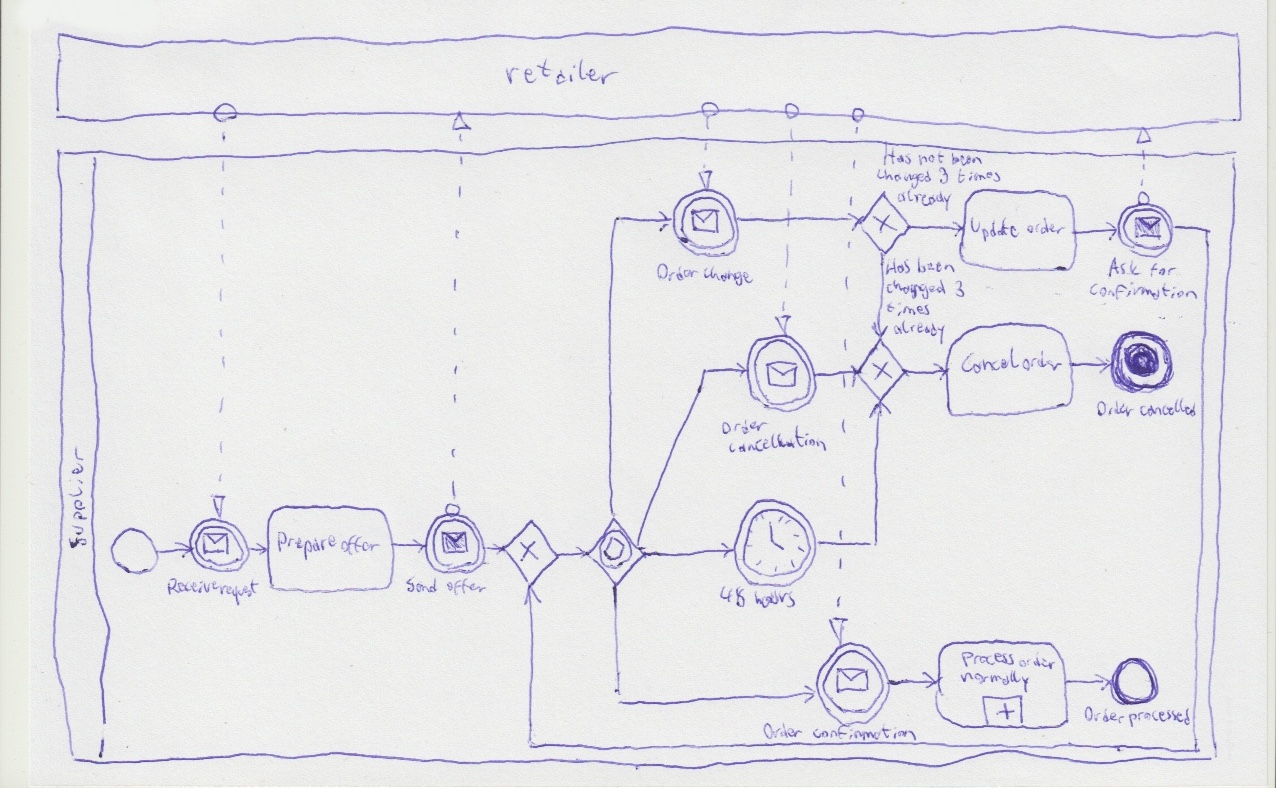3: (951, 277, 968, 297), (936, 165, 948, 185)
48: (720, 585, 748, 609)
Ask: (1109, 259, 1146, 279)
Cancel: (959, 345, 1018, 378)
Has: (881, 146, 913, 169), (887, 259, 915, 277)
Order: (1081, 706, 1124, 728), (761, 722, 807, 742), (656, 263, 695, 285), (1095, 400, 1133, 421)
Prepare: (274, 532, 332, 557)
Process: (962, 651, 1014, 670)
Receive: (165, 579, 214, 599)
Send: (405, 577, 440, 597)
Supplier: (66, 447, 89, 548)
Update: (969, 219, 1020, 241)
already: (892, 322, 949, 342), (898, 191, 953, 206)
been: (917, 258, 957, 277), (946, 151, 986, 169)
cancellation: (725, 430, 829, 458)
cancelled: (1136, 399, 1199, 420)
change: (698, 265, 752, 288)
changed: (884, 280, 952, 300), (875, 168, 937, 185)
confirmation: (1088, 282, 1197, 303), (810, 724, 916, 744)
for: (1147, 261, 1177, 281)
hours: (750, 589, 797, 613)
normally: (963, 671, 1032, 690)
not: (914, 150, 944, 167)
offer: (336, 532, 382, 556), (443, 578, 487, 598)
order: (1022, 216, 1066, 240), (1018, 350, 1060, 375), (721, 417, 767, 436), (1016, 653, 1058, 673)
processed: (1126, 707, 1194, 728)
request: (216, 581, 261, 600)
retailer: (505, 61, 617, 92)
times: (885, 300, 929, 318), (957, 167, 1001, 185)
